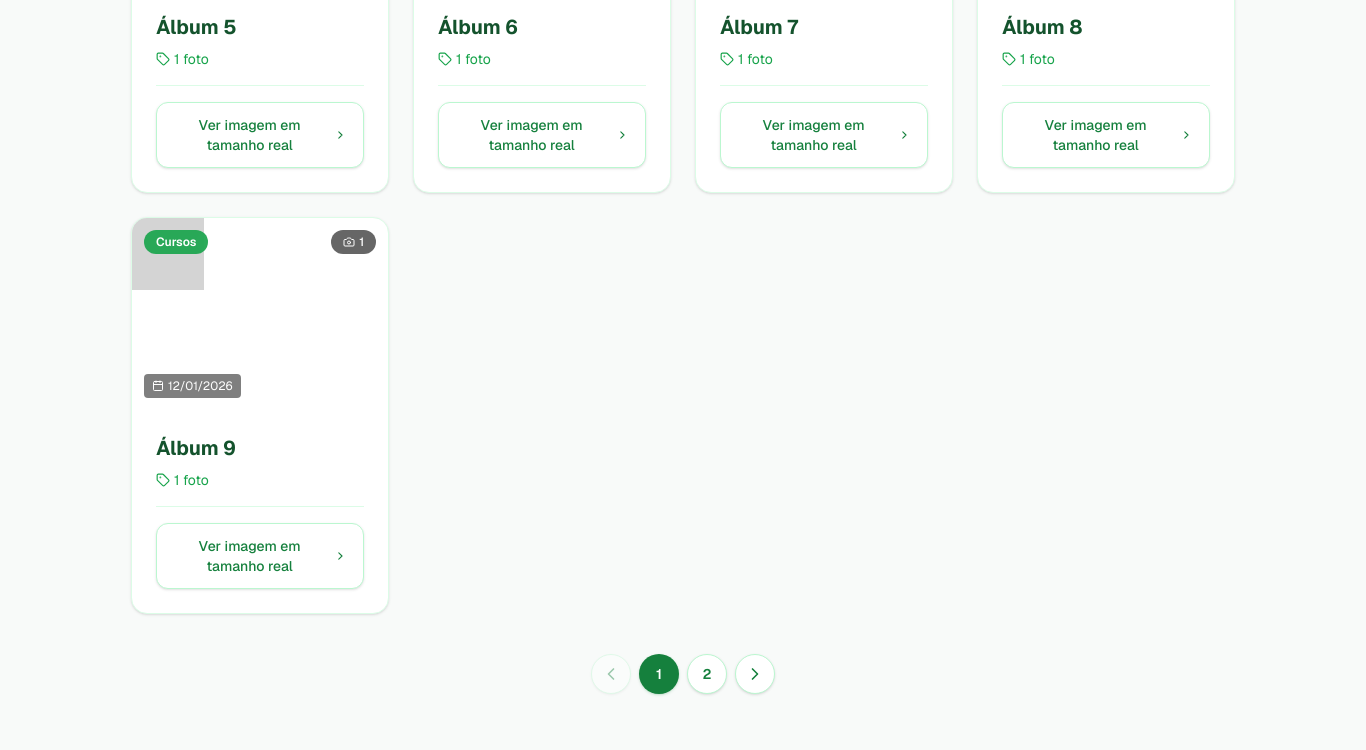
Test: Gallery paginação › mostra apenas 9 álbuns por página e navega entre páginas
The width and height of the screenshot is (1366, 750).
(page scrolled)
expect the heading "Álbum 9" is shown: met, box [156,435,236,461]
expect the heading "Álbum 10" is not shown: met
What coordinates should you click on to do the following:
click the button named "Página 2 de 2"
I would click on:
 (707, 674)
Its box is [687,654,727,694].
(page scrolled)
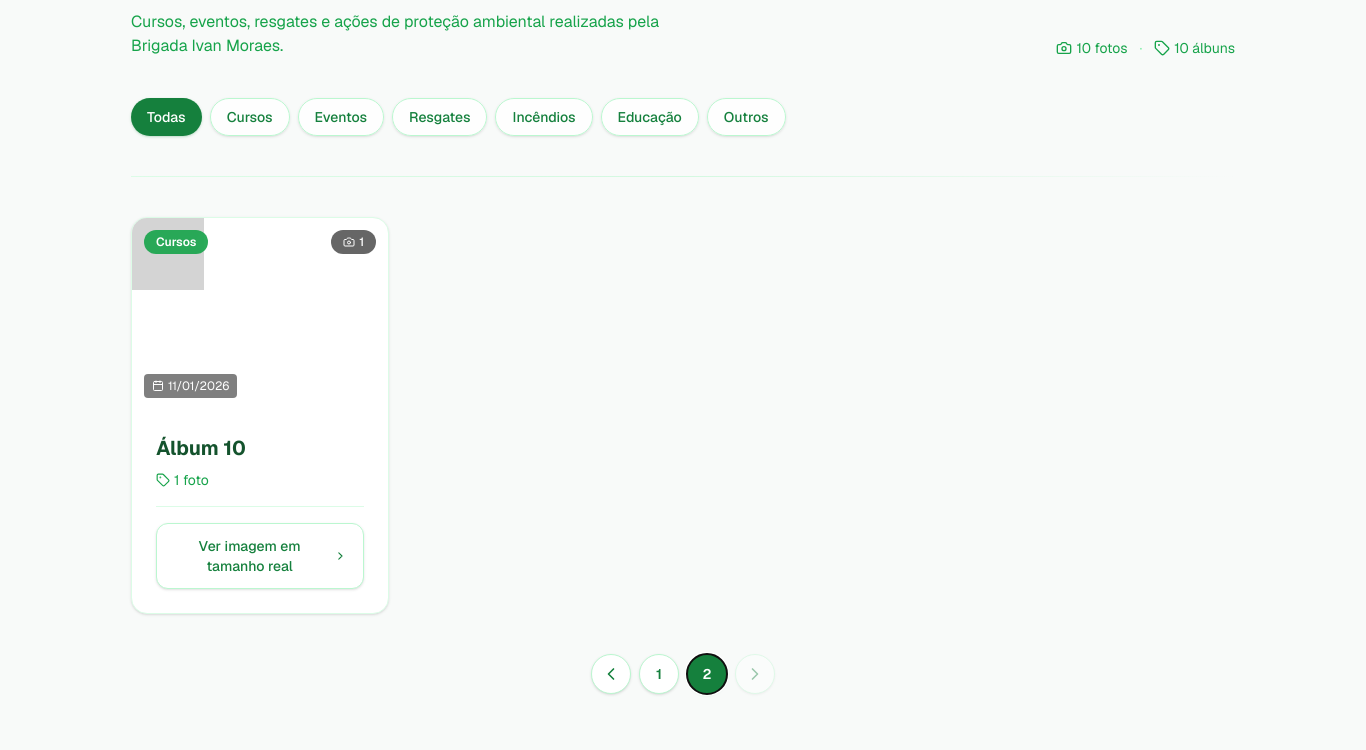
expect the heading "Álbum 10" is shown: met, box [156,435,246,461]
